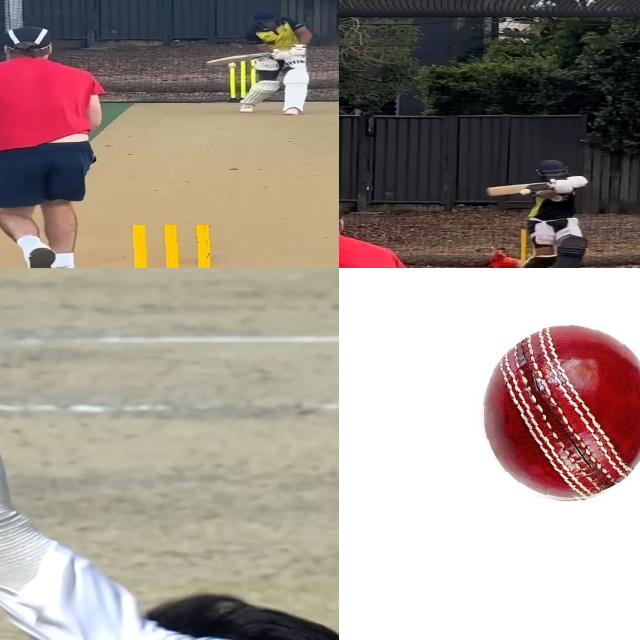Cricket ball: (474, 321, 640, 503), (519, 189, 533, 196), (228, 62, 238, 68)
Stumps: (120, 224, 227, 268)
